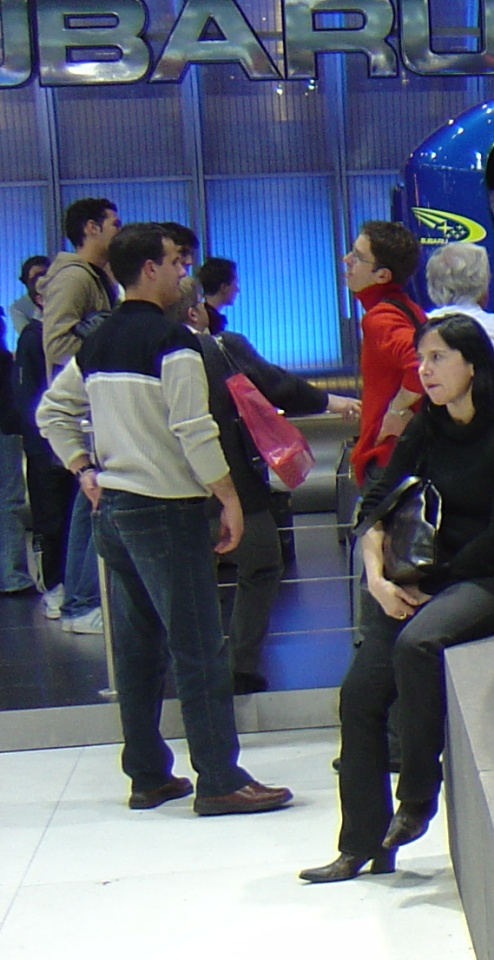person: (80, 222, 235, 818)
